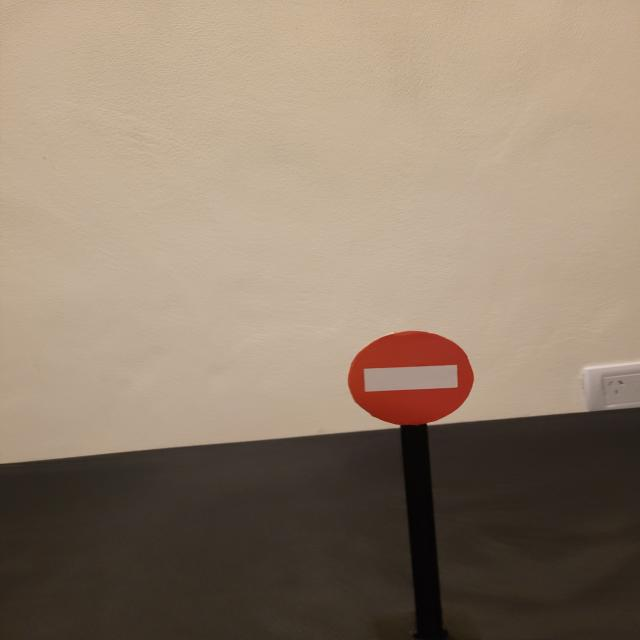no_entry: (346, 330, 475, 428)
